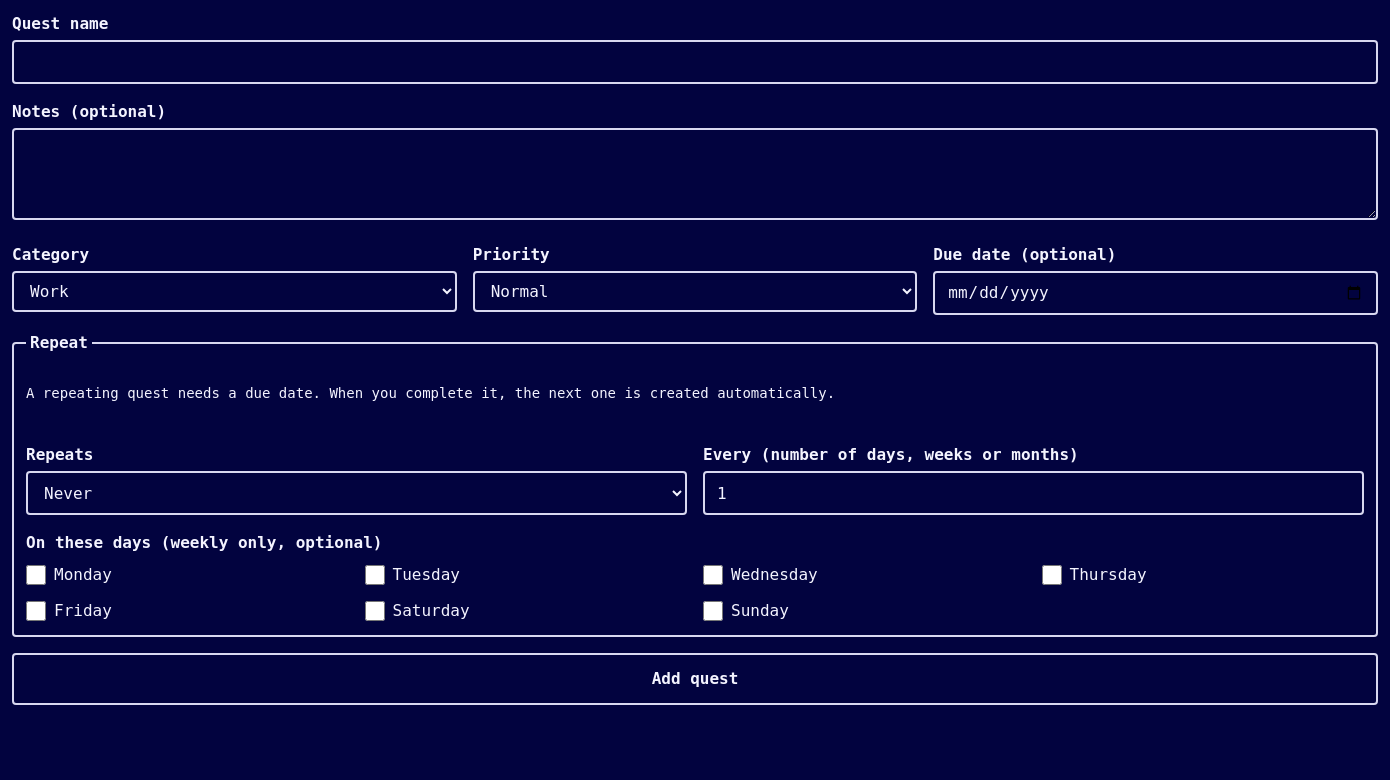
Test: TaskForm › keeps what the user typed after a rejected submission
Type "Keep me" into the text box labelled "Notes (optional)".
click(695, 174); type("Keep me")  # box [12,128,1378,220]
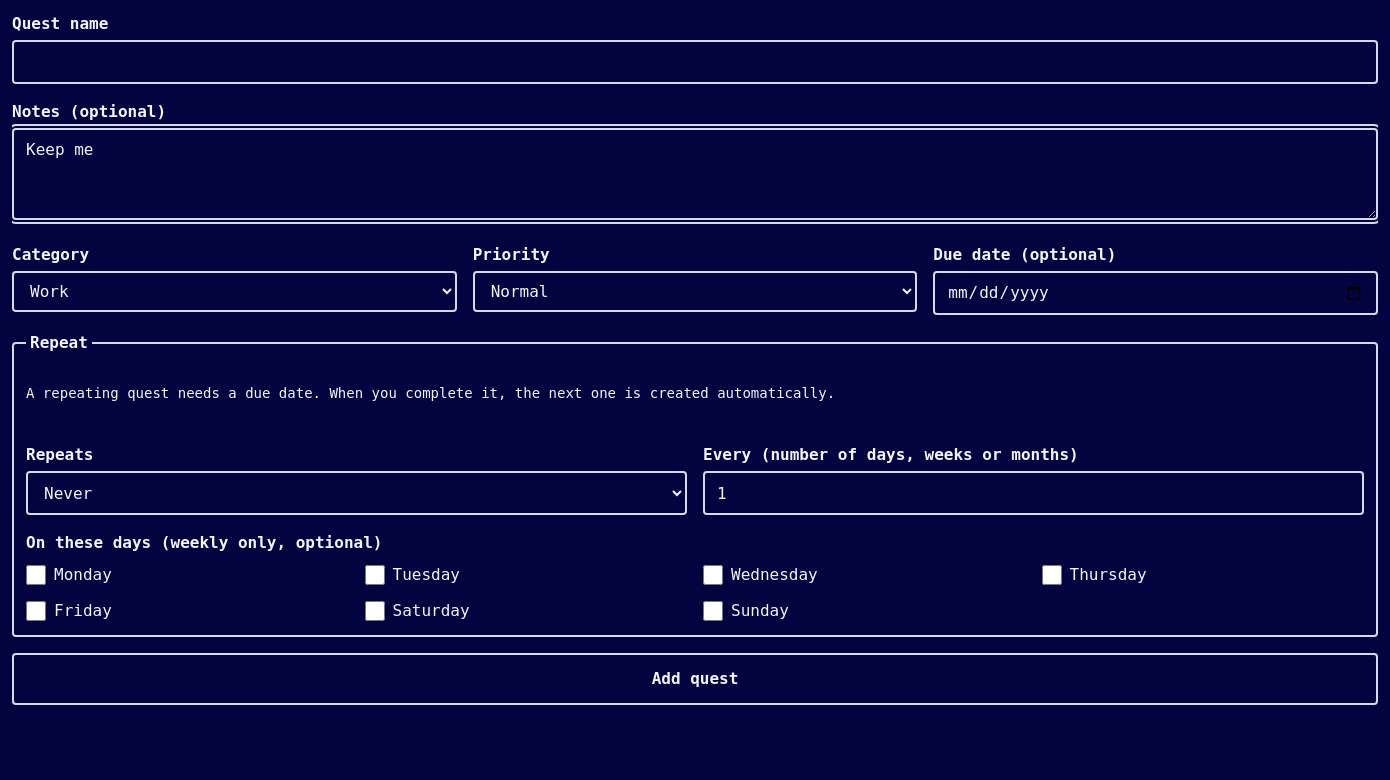
Click the button "Add quest".
click(695, 679)  # box [12,653,1378,705]
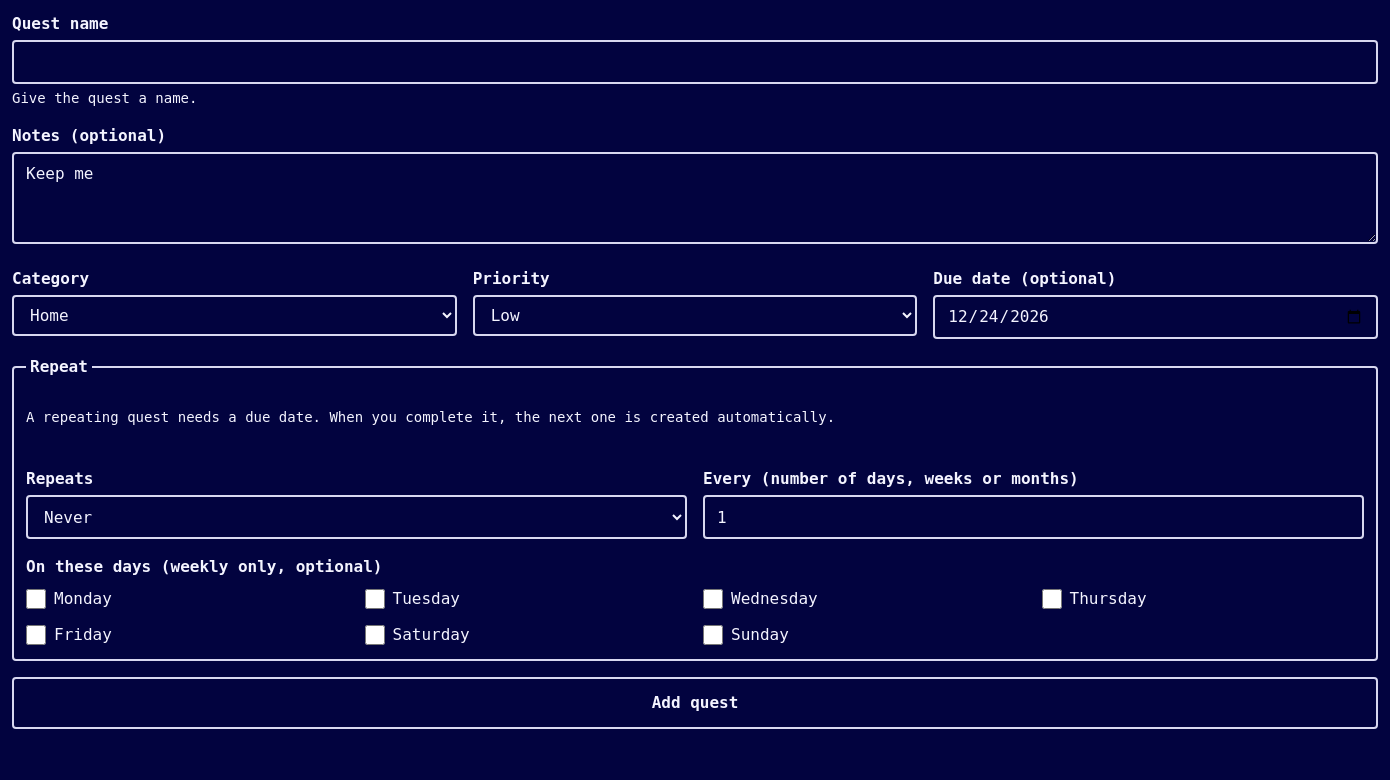
Expected: the text box labelled "Notes (optional)" holds "Keep me", [12,152,1378,244]
Expected: the text "Give the quest a name." is shown, [12,90,197,106]
Expected: the dropdown labelled "Category" shows "Home", [12,295,457,336]
